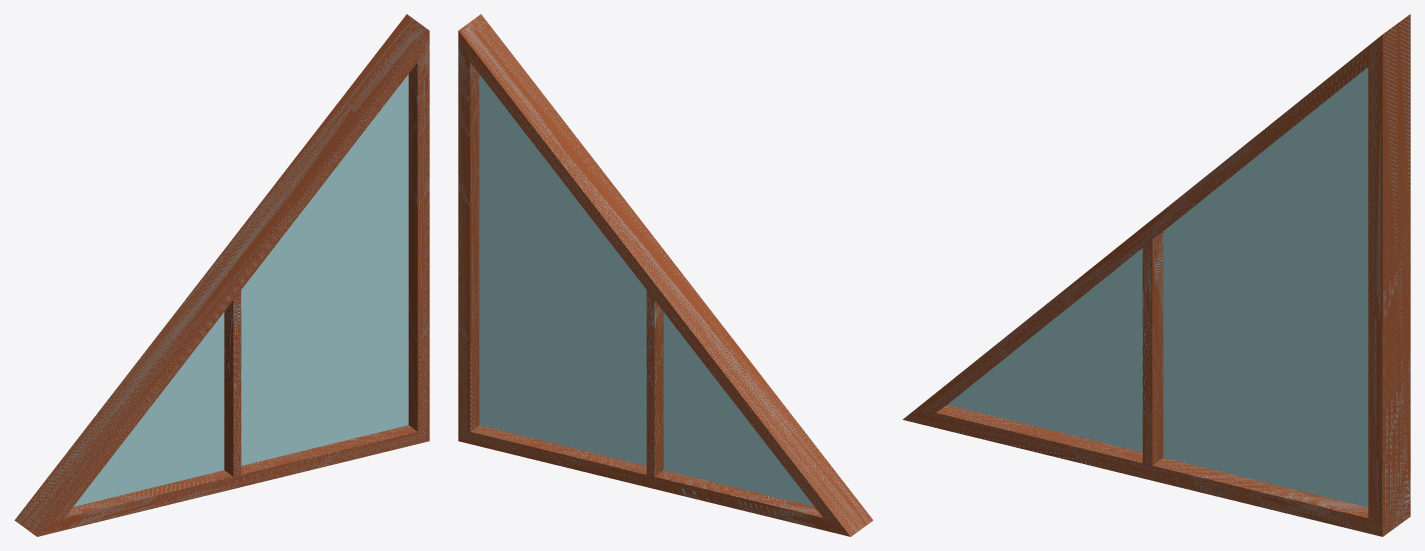
File: wall_window_9.fbx
The picture shows the model from 3 angles, left to right: view 1: azimuth 30°, elevation 25°; view 2: azimuth 150°, elevation 25°; view 3: azimuth 330°, elevation 25°; orthographic projection. The views are drawn at different scales.
Parts seen in each view (by area): view 1: Mesh2_Group2 Group_5_1 Model, Mesh3_Group_5_1 Model, Mesh1_Group1 Group_5_1 Model; view 2: Mesh2_Group2 Group_5_1 Model, Mesh3_Group_5_1 Model, Mesh1_Group1 Group_5_1 Model; view 3: Mesh2_Group2 Group_5_1 Model, Mesh3_Group_5_1 Model, Mesh1_Group1 Group_5_1 Model.
Part boxes in pixels (left/top/right/bottom): Mesh2_Group2 Group_5_1 Model: left=241, top=74, right=408, bottom=465; Mesh3_Group_5_1 Model: left=14, top=14, right=429, bottom=536; Mesh1_Group1 Group_5_1 Model: left=73, top=312, right=224, bottom=506; Mesh2_Group2 Group_5_1 Model: left=479, top=74, right=646, bottom=465; Mesh3_Group_5_1 Model: left=458, top=14, right=873, bottom=536; Mesh1_Group1 Group_5_1 Model: left=663, top=312, right=814, bottom=506; Mesh2_Group2 Group_5_1 Model: left=1163, top=67, right=1368, bottom=507; Mesh3_Group_5_1 Model: left=902, top=14, right=1410, bottom=536; Mesh1_Group1 Group_5_1 Model: left=947, top=248, right=1142, bottom=452.
Bounding box in the file's own units: 1 × 1 × 0.1.
